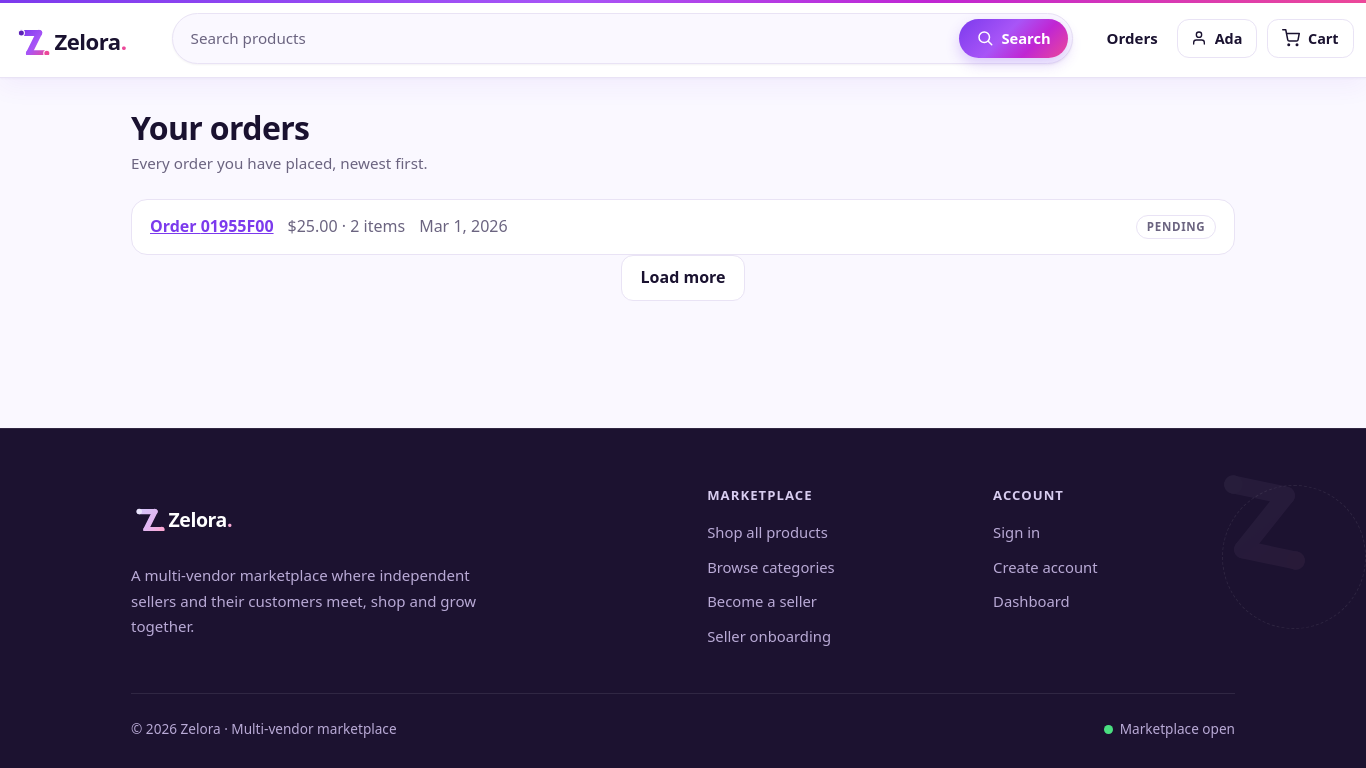
Test: OrdersPage › keeps the rows it already has when the next page fails
Click the button "Load more" at [683, 278], box [621,254,745,301]
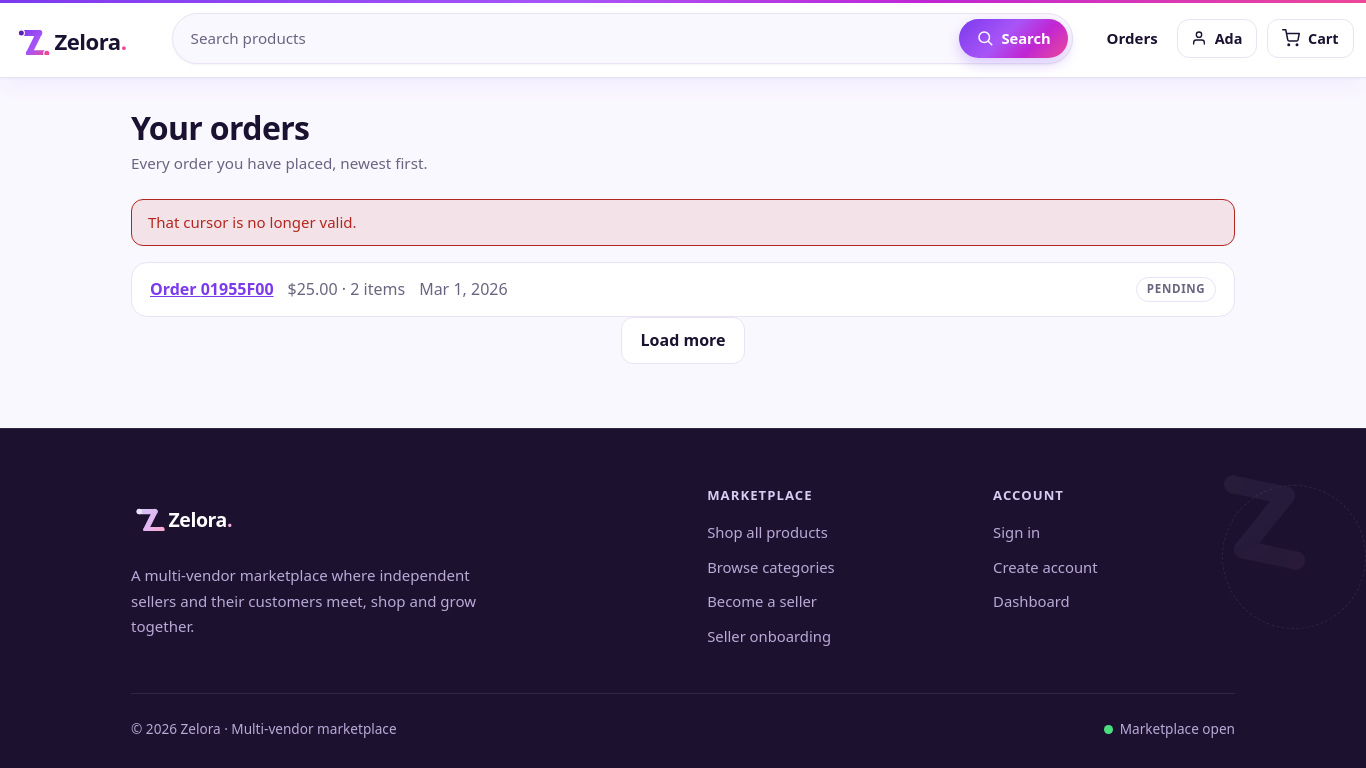
Check: the link "Order 01955F00" is shown, box [150,277,274,302]
Check: the message "That cursor is no longer valid." is shown, box [131,199,1235,246]
